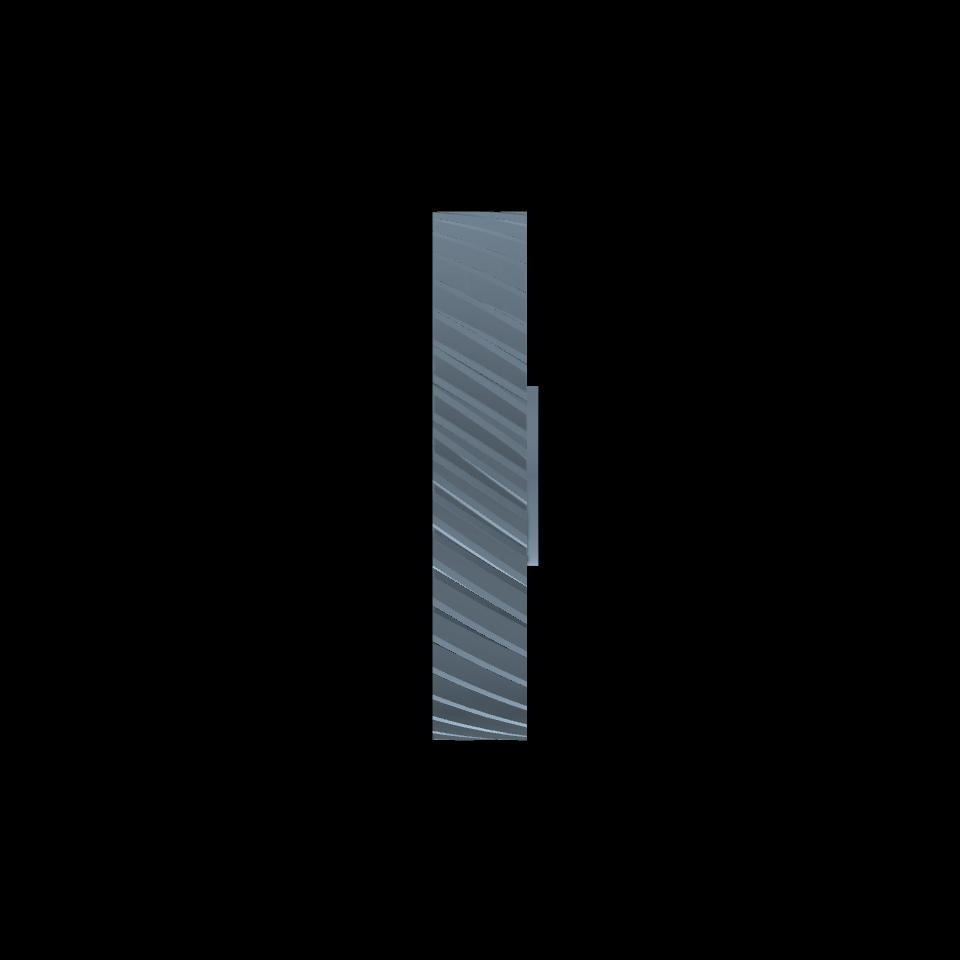Helical: (433, 210, 527, 740)
